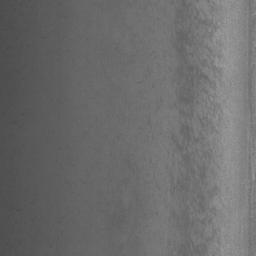Silk spot: (160, 0, 228, 256), (126, 154, 160, 190), (138, 96, 163, 142), (137, 68, 154, 88)
